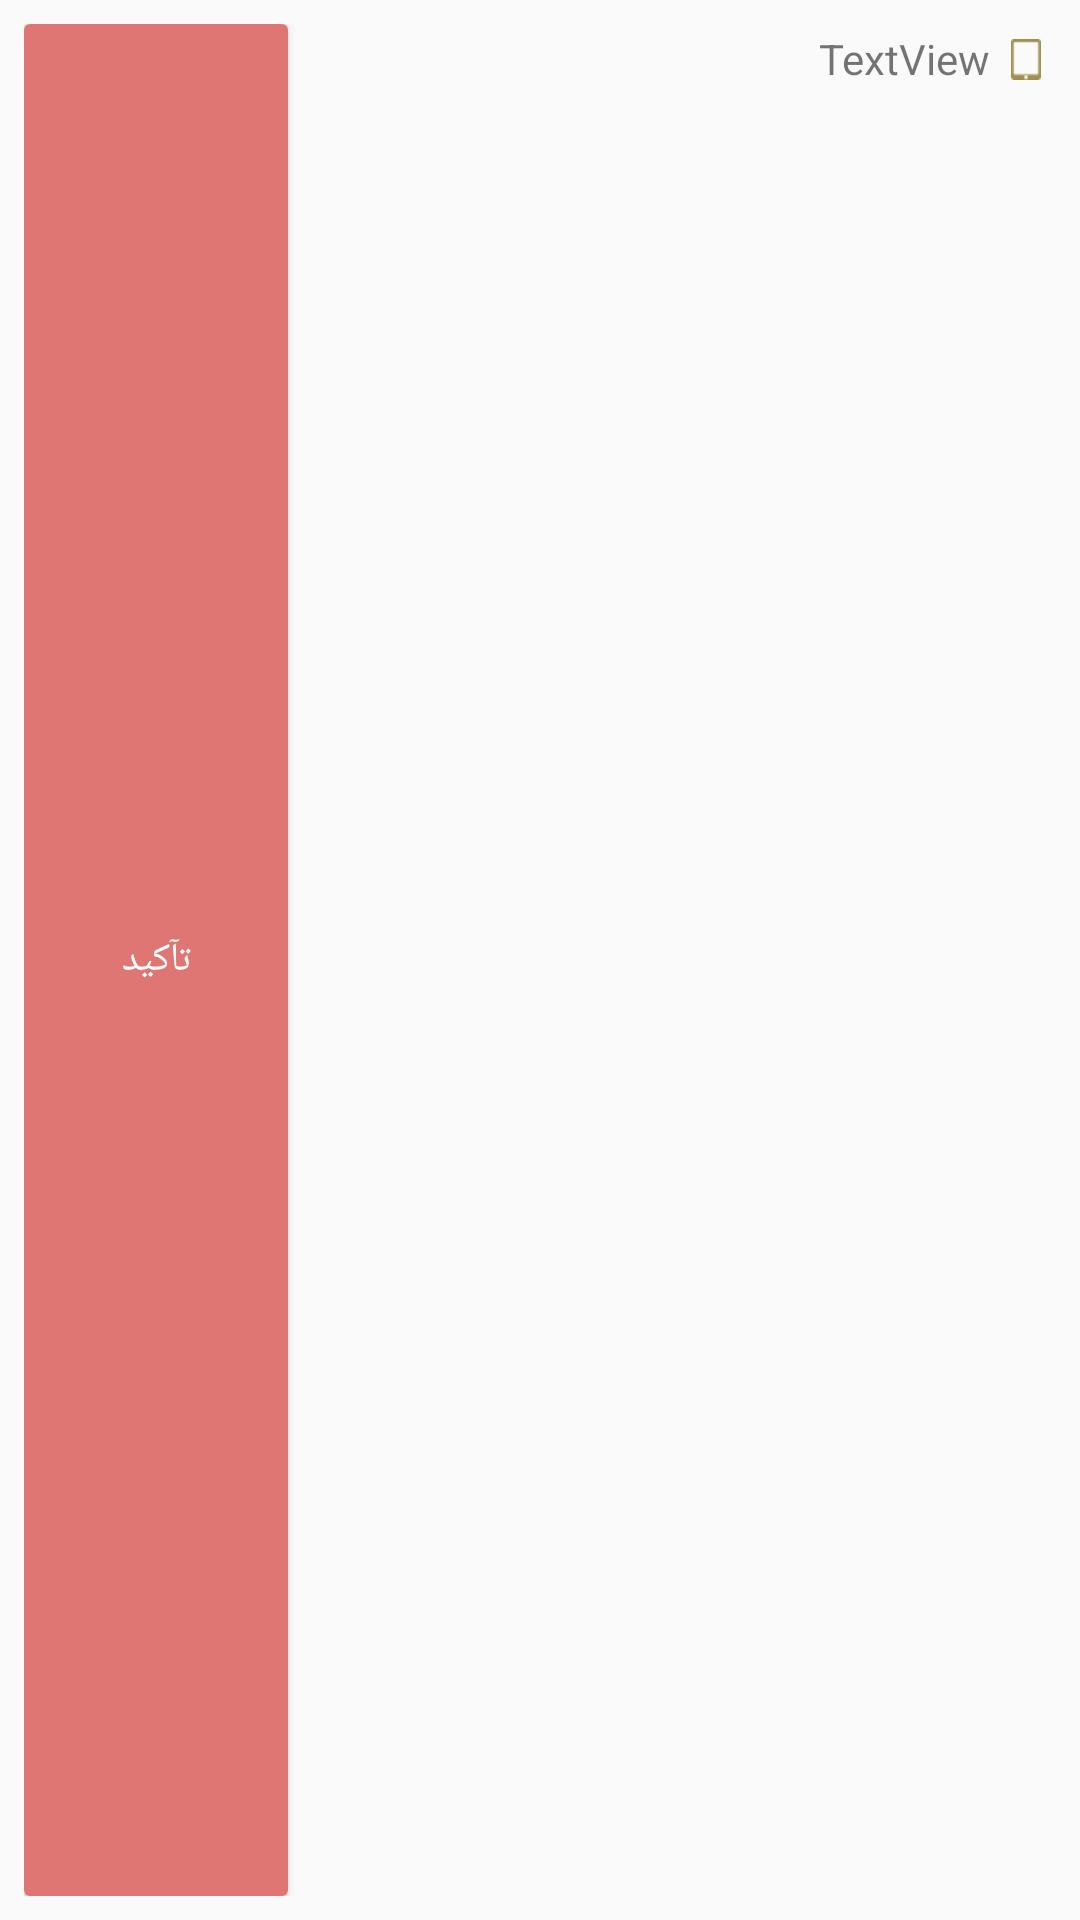

Screen size 1080x1920. Icon name, then its box in pixels as (x1, y1, x2, y2):
mobile: (1011, 39, 1041, 80)
